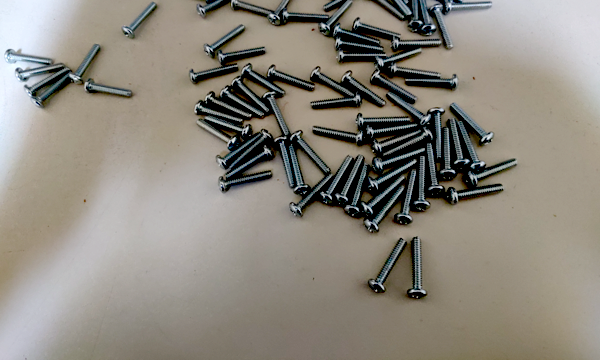longscrew: (369, 238, 406, 293), (464, 154, 522, 188), (292, 173, 335, 218), (290, 130, 332, 175), (222, 146, 276, 181), (361, 177, 407, 217), (228, 132, 275, 171), (385, 90, 435, 125), (369, 187, 406, 232), (452, 102, 493, 142), (321, 154, 352, 205), (386, 132, 438, 162), (380, 132, 432, 162), (335, 156, 366, 206), (34, 69, 72, 109), (369, 161, 421, 190), (370, 132, 422, 161), (342, 72, 385, 107), (24, 67, 70, 99), (347, 162, 374, 215), (231, 78, 273, 112), (204, 22, 246, 56), (447, 182, 506, 206), (218, 169, 274, 194), (243, 63, 284, 97), (216, 133, 259, 165), (218, 87, 265, 116), (203, 92, 250, 120), (374, 47, 426, 72), (370, 75, 418, 102), (123, 0, 157, 38), (320, 0, 357, 34), (309, 68, 353, 96), (70, 43, 100, 84), (193, 102, 241, 127), (13, 64, 67, 86), (197, 121, 239, 149), (277, 135, 297, 192), (206, 116, 253, 140), (265, 92, 290, 137), (462, 121, 484, 172), (218, 45, 269, 67), (267, 66, 315, 89), (189, 62, 239, 84), (370, 125, 418, 147), (353, 18, 400, 40), (427, 139, 443, 200), (415, 156, 431, 217), (400, 168, 416, 229), (410, 238, 426, 299), (227, 0, 280, 18), (83, 81, 136, 99), (3, 49, 53, 68), (392, 38, 444, 56), (449, 118, 467, 170), (312, 93, 361, 112), (349, 115, 411, 130), (335, 25, 381, 45), (309, 129, 368, 144), (405, 74, 459, 90), (290, 144, 306, 196), (445, 0, 496, 16), (436, 3, 452, 52), (367, 0, 404, 21), (281, 10, 330, 25), (332, 39, 388, 52), (390, 67, 440, 81), (196, 0, 239, 16), (270, 0, 297, 25), (336, 51, 388, 63), (433, 109, 445, 161), (444, 127, 455, 183), (322, 0, 366, 12), (383, 0, 412, 16), (423, 0, 435, 37), (410, 0, 422, 31), (387, 0, 409, 6), (423, 0, 465, 2)
